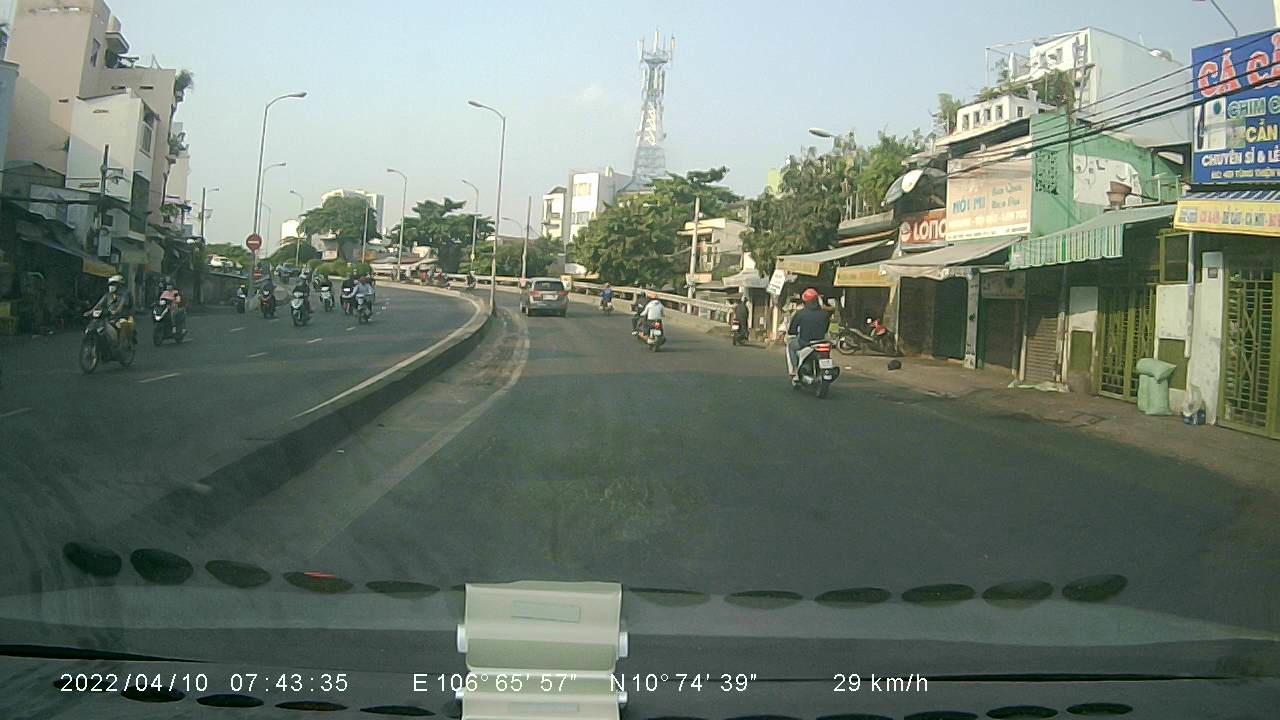Cam di nguoc chieu: (244, 231, 262, 254)
